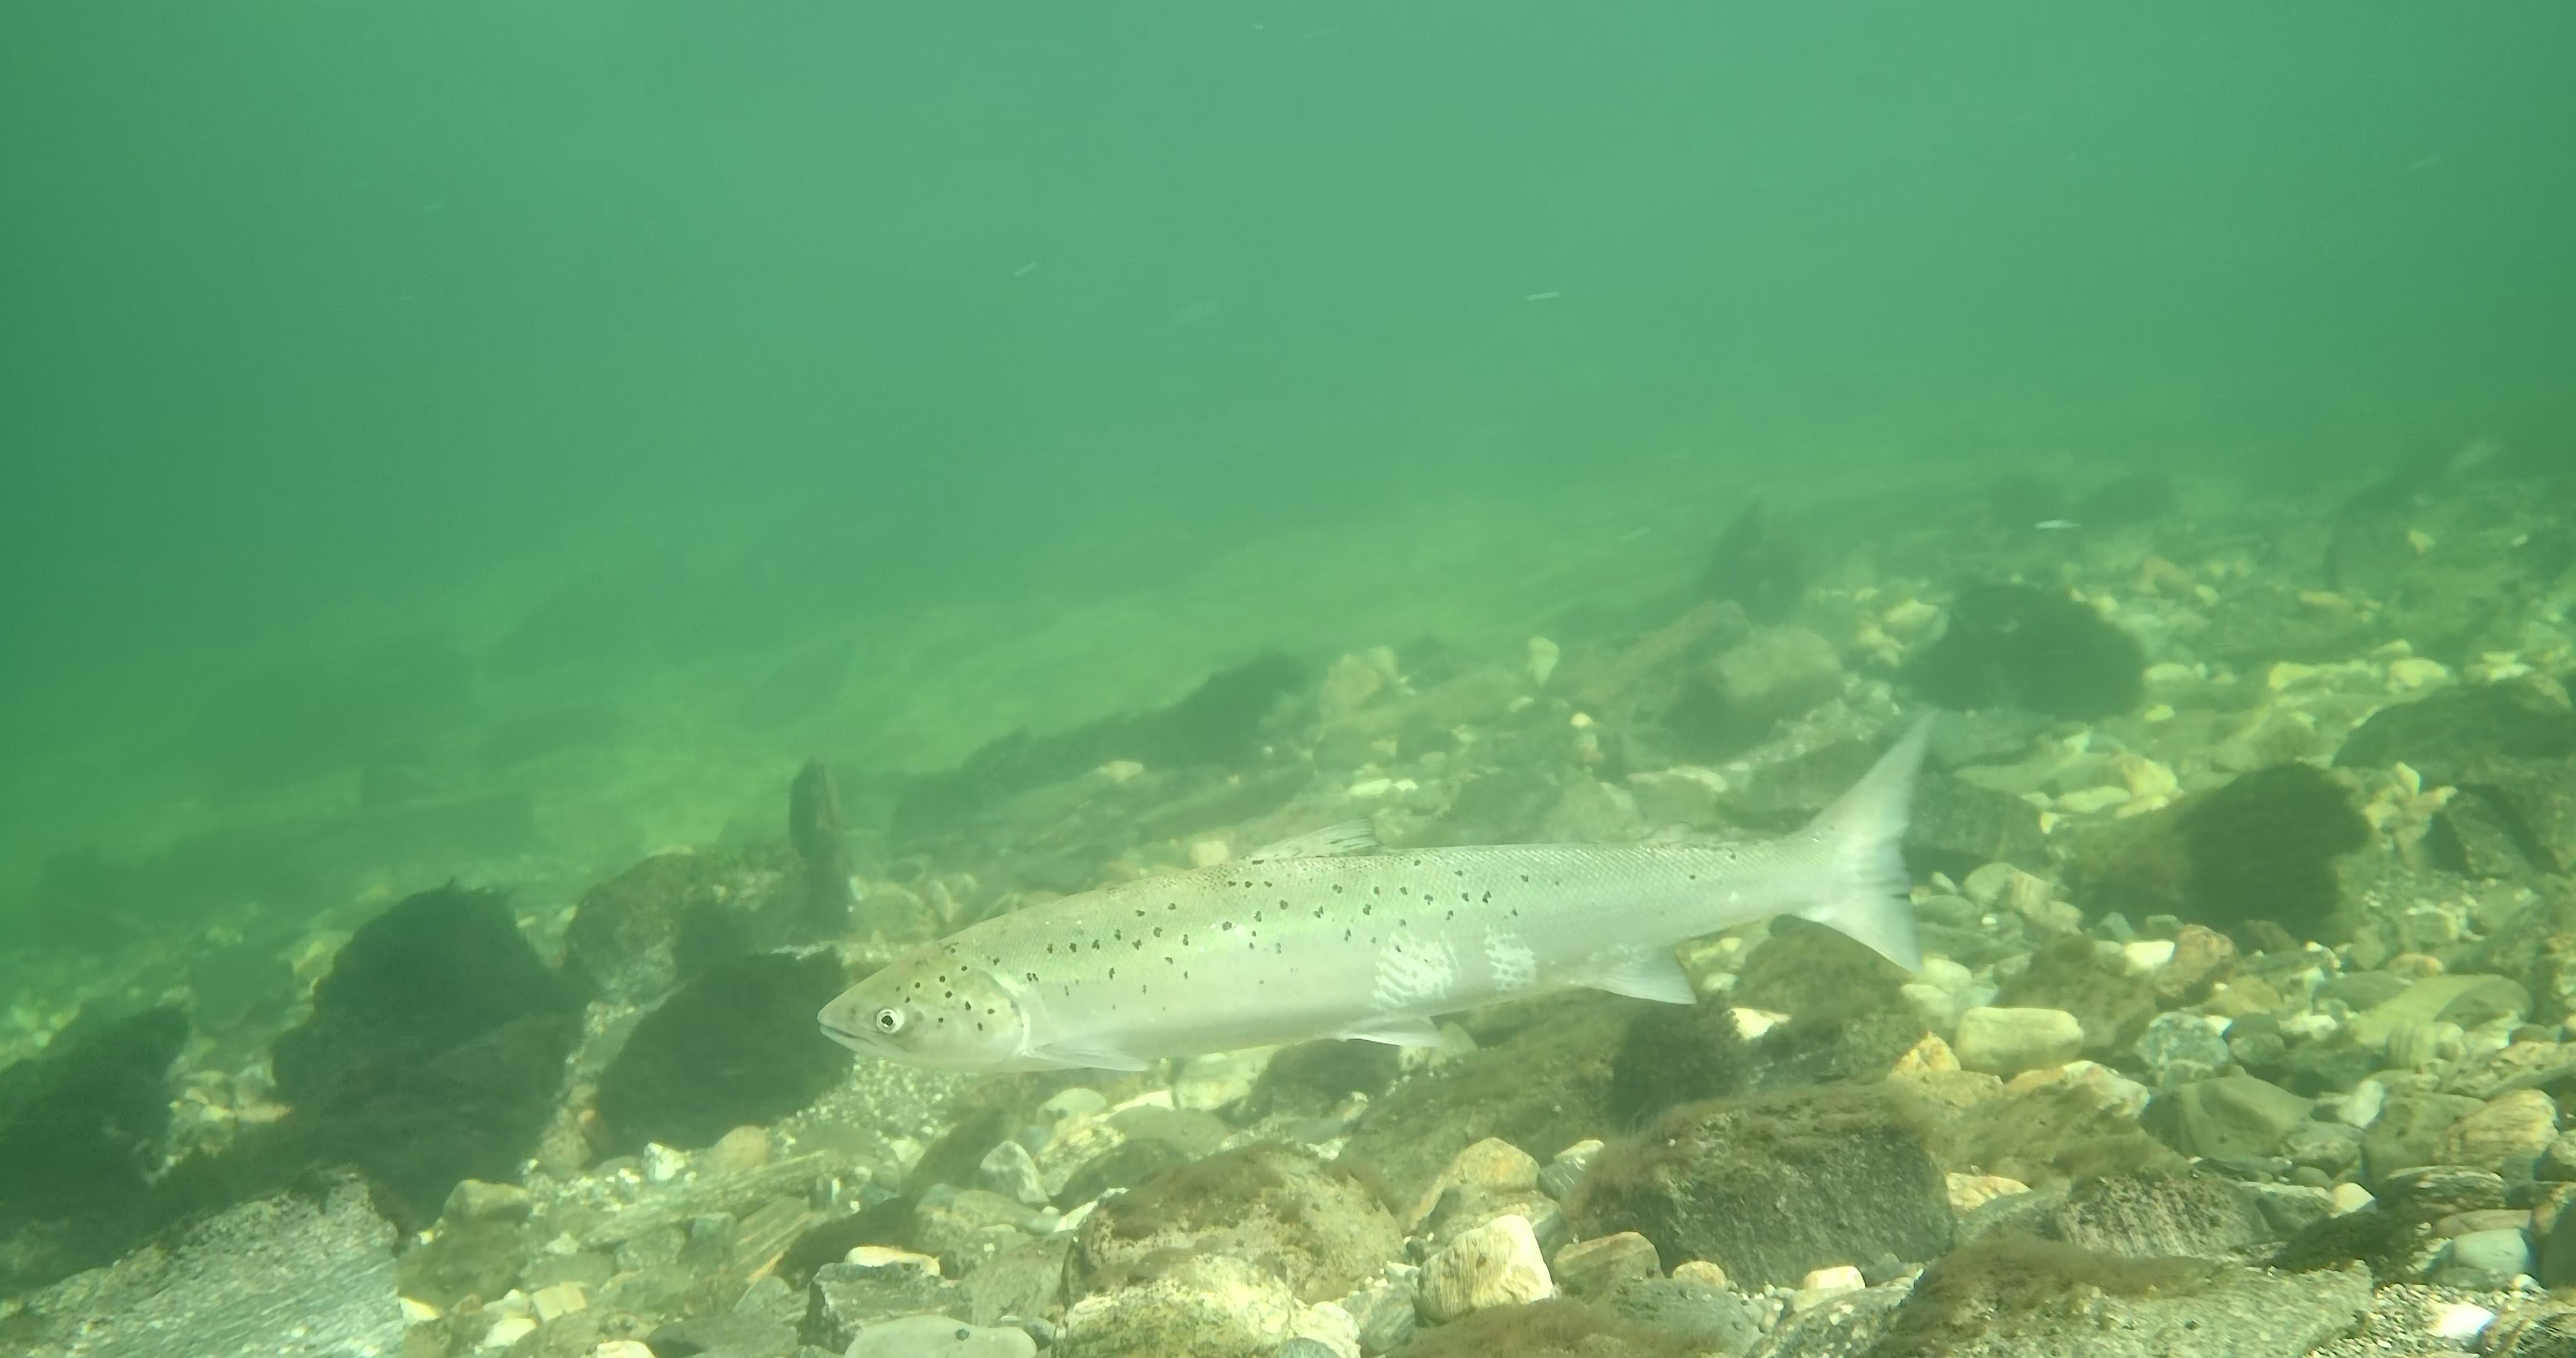salmon: (813, 704, 1942, 1077)
